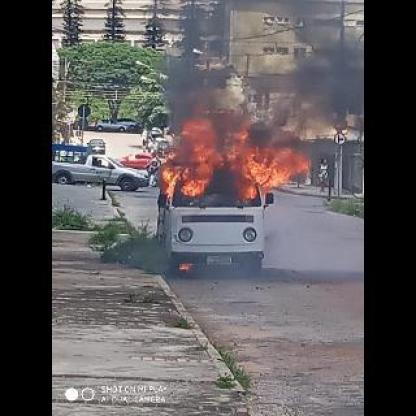fire: (152, 103, 312, 207)
